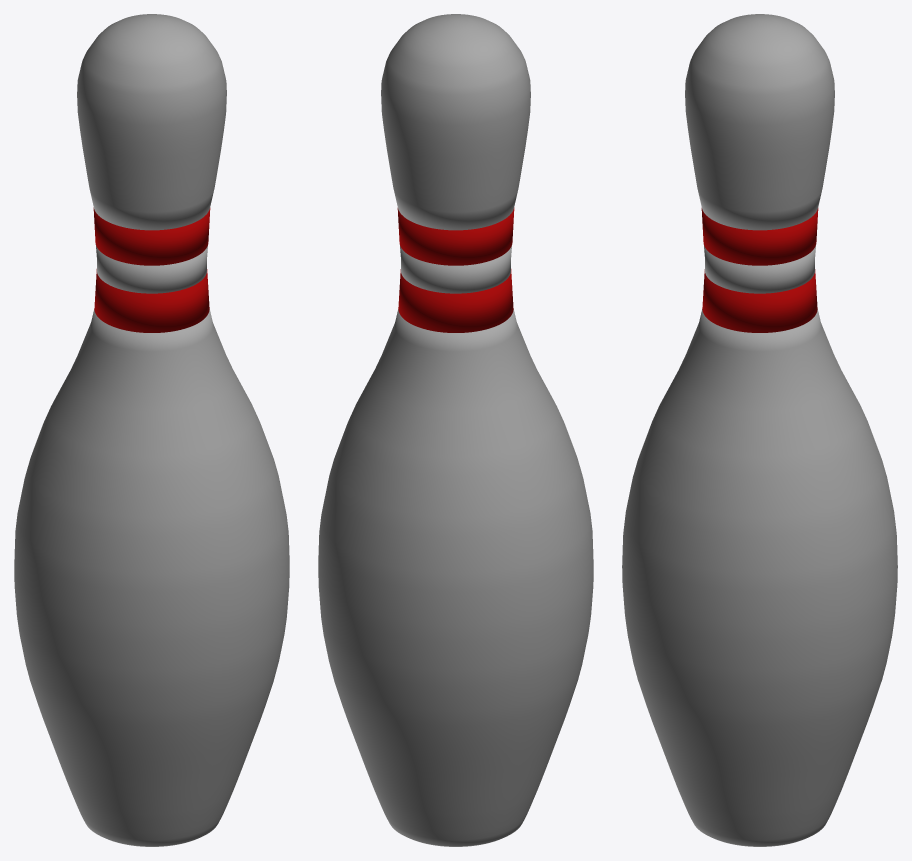
The model's file is Pin.obj.
The picture shows the model from 3 angles, left to right: view 1: azimuth 30°, elevation 25°; view 2: azimuth 150°, elevation 25°; view 3: azimuth 270°, elevation 25°; orthographic projection.
Visible parts, largest first — view 1: pin_New_Material_3; view 2: pin_New_Material_3; view 3: pin_New_Material_3.
Boxes of the visible parts, left/top/right/bottom form: pin_New_Material_3: left=14, top=14, right=289, bottom=846; pin_New_Material_3: left=318, top=14, right=593, bottom=846; pin_New_Material_3: left=622, top=14, right=897, bottom=846.
Bounding box in the file's own units: 0.6507 × 2.08 × 0.6507.
